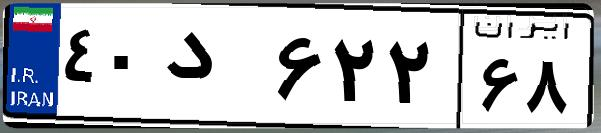0: (110, 28, 158, 98)
2: (385, 28, 445, 110), (330, 28, 385, 110)
4: (57, 26, 110, 100)
6: (270, 28, 330, 110), (475, 38, 525, 113)
8: (525, 38, 570, 115)
د: (158, 20, 270, 120)
